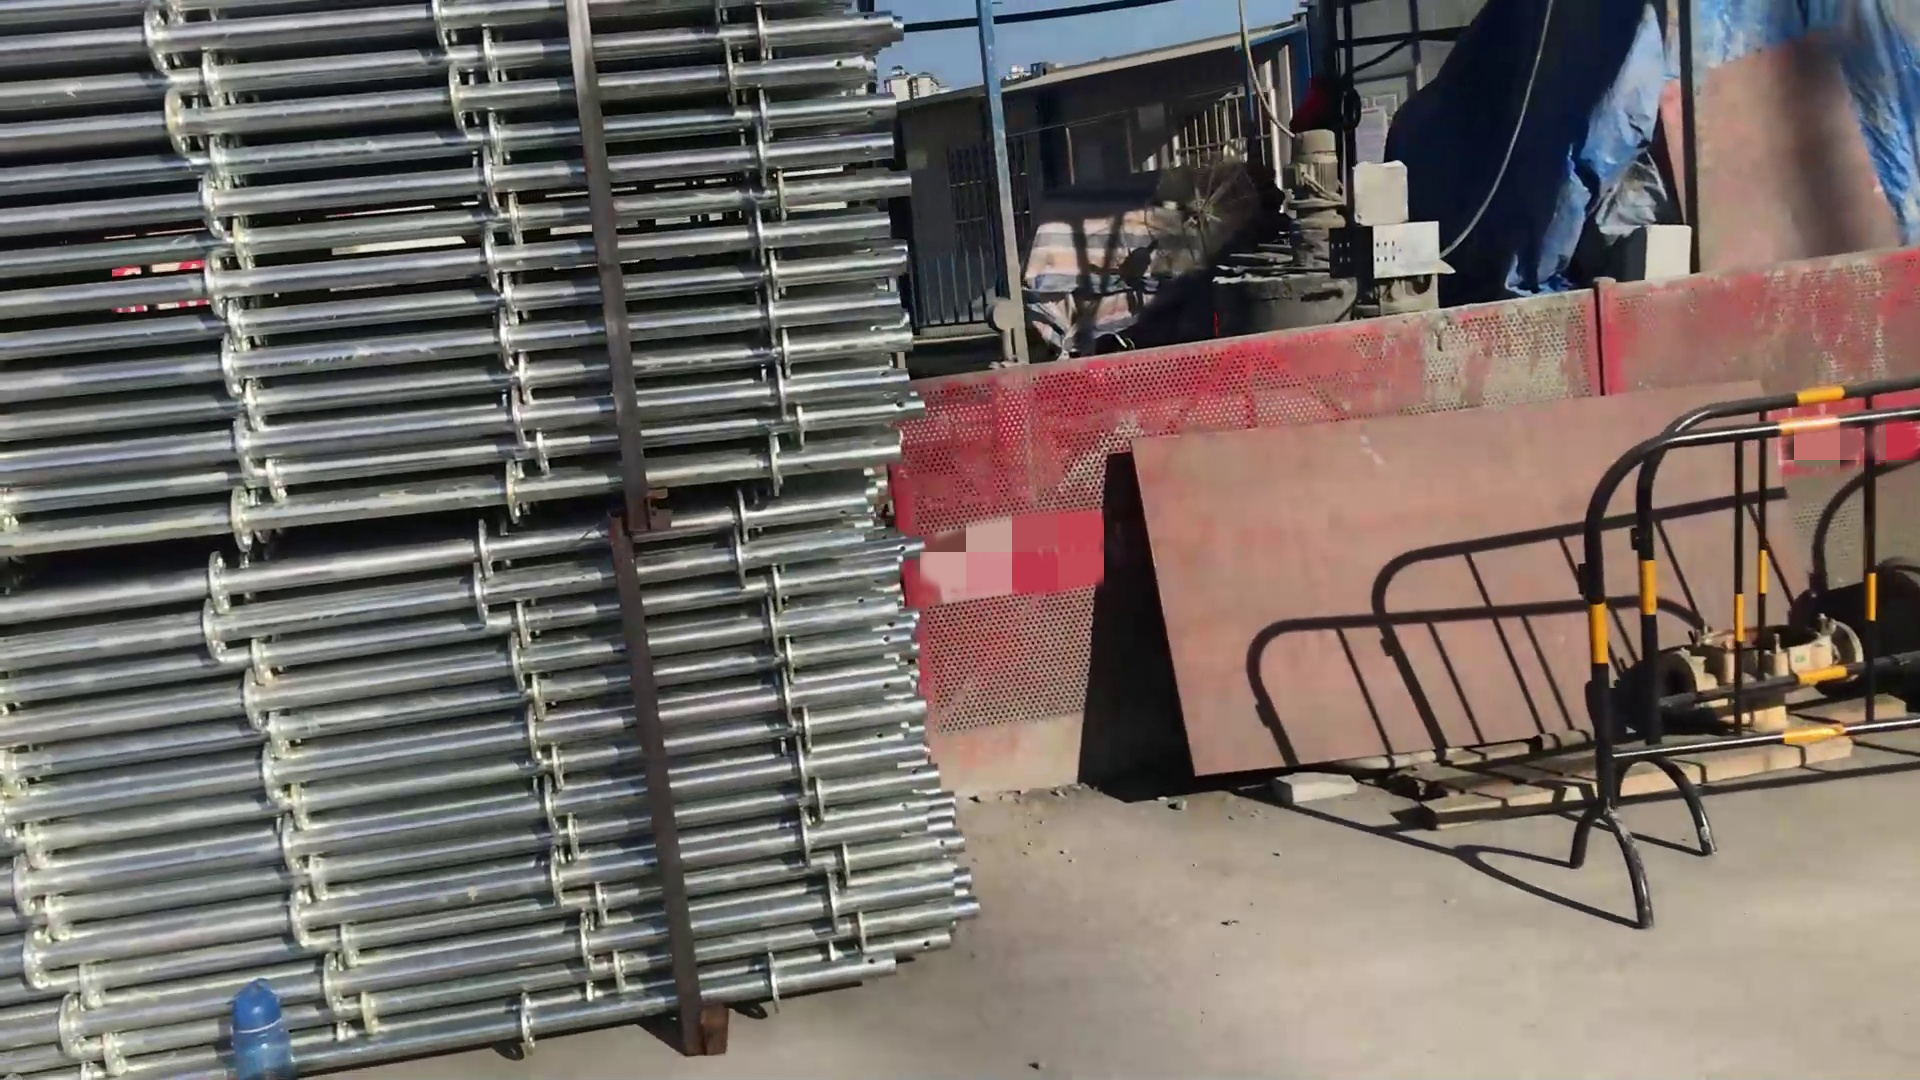fence: (916, 306, 1590, 785), (1565, 377, 1920, 931)
scaffold: (8, 4, 989, 1006)
